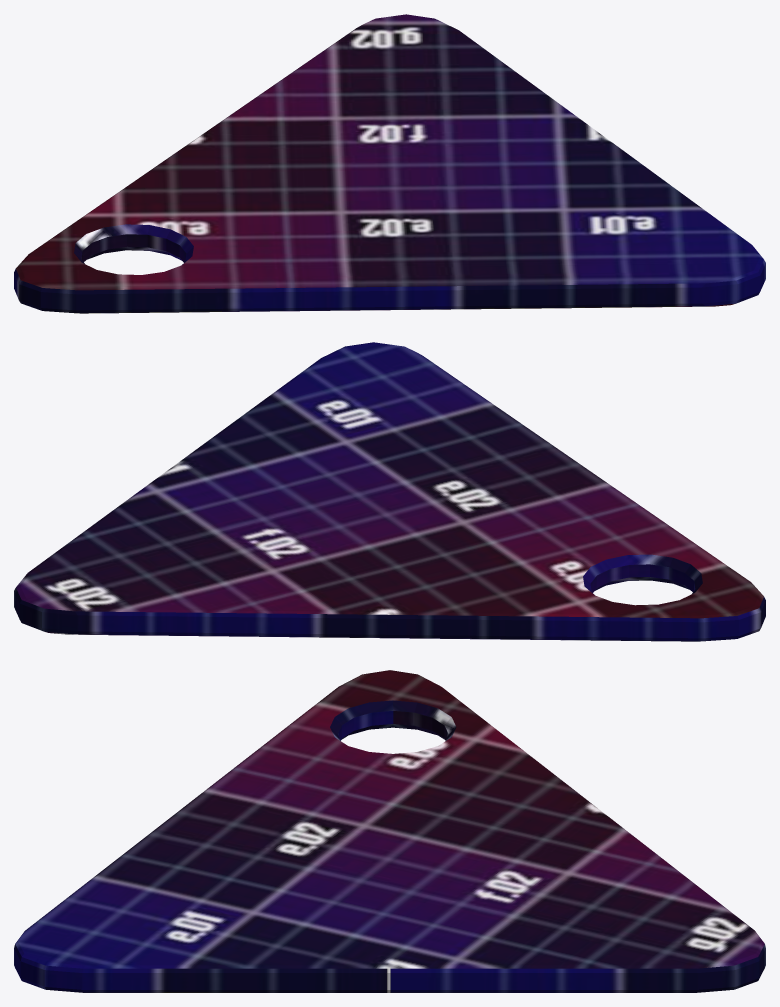
Rendered from DOG_TAG_UNWRAPPED.fbx.
3 renders of one model, top to bottom at view 1: azimuth 30°, elevation 25°; view 2: azimuth 150°, elevation 25°; view 3: azimuth 270°, elevation 25°, orthographic. The views are drawn at different scales.
Parts seen in each view (by area): view 1: Plane; view 2: Plane; view 3: Plane.
Boxes of the visible parts, <box> form: Plane: <box>14,14,765,313</box>; Plane: <box>14,342,765,641</box>; Plane: <box>14,670,765,992</box>.
Size of the model in its own units: 176 by 7.42 by 186.
